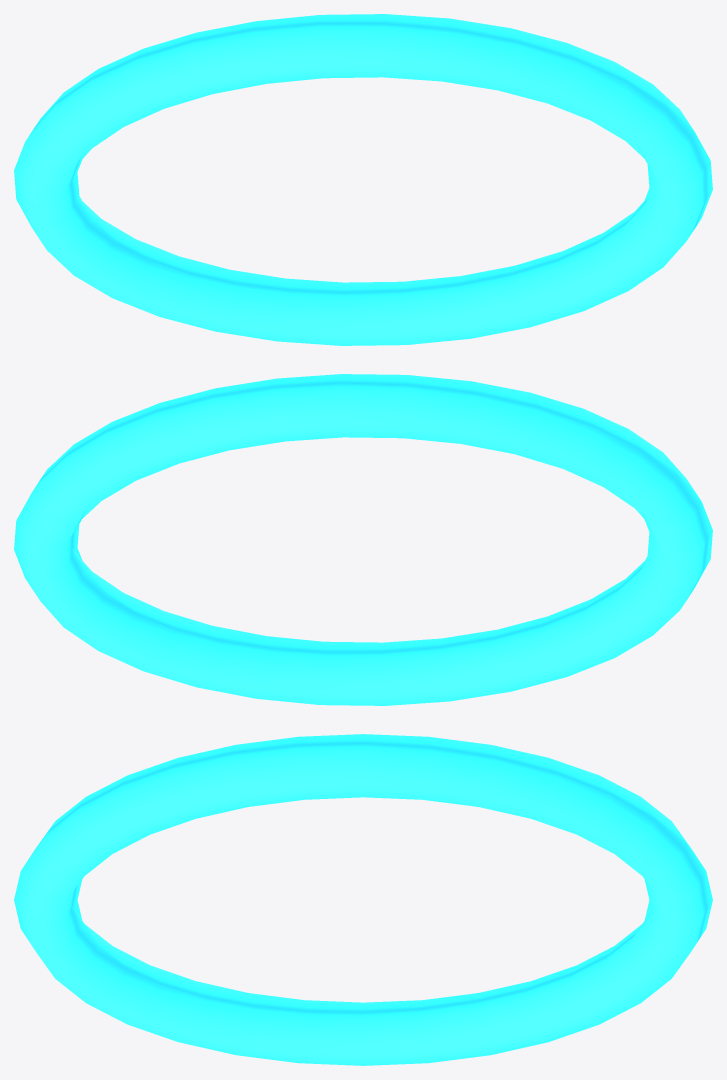
Rendered from upgrade_orbitals.glb.
3 views of the same model, one above another, from view 1: azimuth 30°, elevation 25°; view 2: azimuth 150°, elevation 25°; view 3: azimuth 270°, elevation 25° (orthographic).
Parts seen in each view (by area): view 1: MODULE // ORBITAL CONTROL; view 2: MODULE // ORBITAL CONTROL; view 3: MODULE // ORBITAL CONTROL.
Part boxes in pixels (x1,y1,x2,y2): MODULE // ORBITAL CONTROL: [14, 14, 712, 345]; MODULE // ORBITAL CONTROL: [14, 374, 712, 705]; MODULE // ORBITAL CONTROL: [14, 734, 712, 1065].
Size of the model in its own units: 0.77 by 0.0606 by 0.77.
